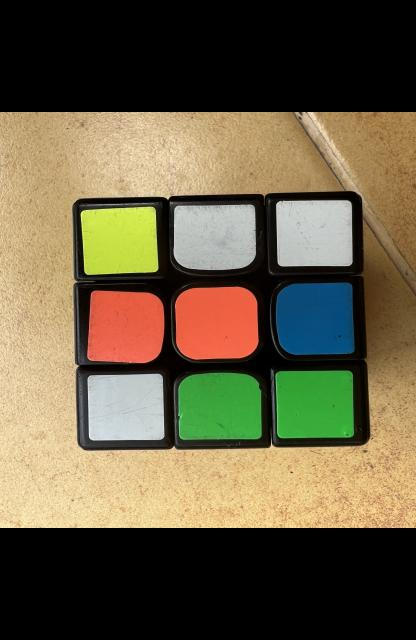Blue: (274, 282, 353, 355)
Green: (177, 372, 260, 440), (274, 371, 353, 438)
Orange: (174, 286, 258, 360), (86, 291, 163, 363)
White: (173, 204, 256, 270), (276, 200, 352, 267), (87, 374, 163, 440)
Yellow: (79, 206, 158, 276)
